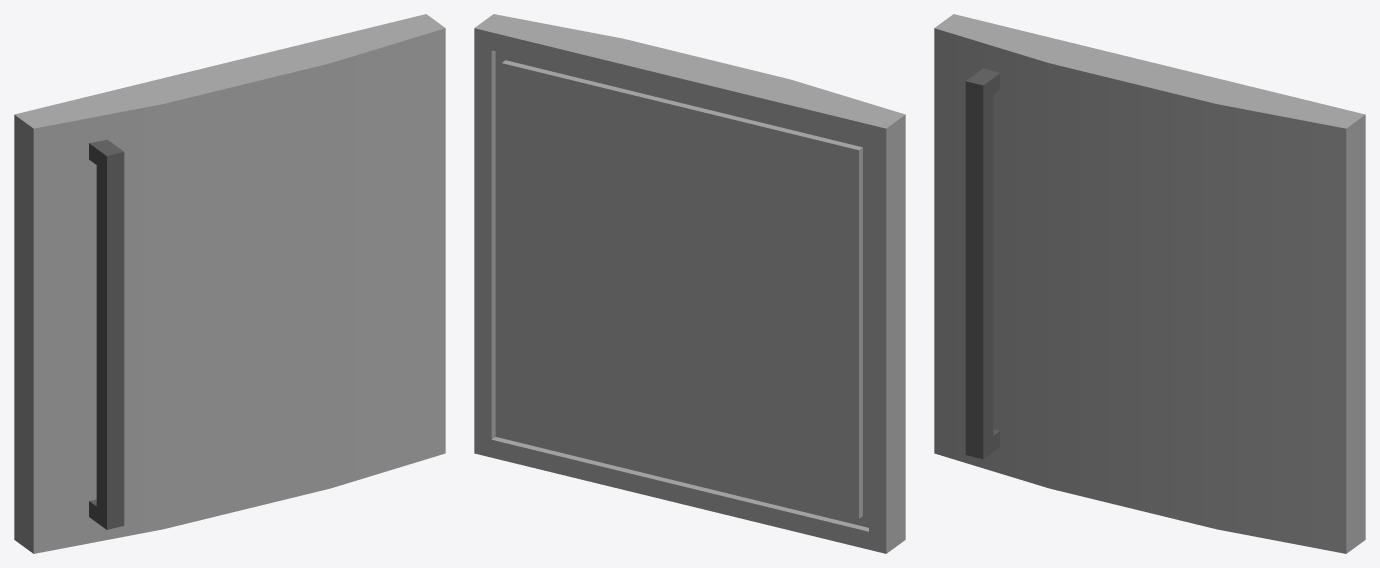
Rendered from Refrigerador_Puerta02.fbx.
The picture shows the model from 3 angles, left to right: view 1: azimuth 30°, elevation 25°; view 2: azimuth 150°, elevation 25°; view 3: azimuth 330°, elevation 25°; orthographic projection.
Parts seen in each view (by area): view 1: Refrigerador_Puerta02; view 2: Refrigerador_Puerta02; view 3: Refrigerador_Puerta02.
Boxes of the visible parts, x1,y1,x2,y2 form: Refrigerador_Puerta02: (14, 14, 445, 553); Refrigerador_Puerta02: (474, 14, 905, 553); Refrigerador_Puerta02: (934, 14, 1365, 553).
Bounding box in the file's own units: 48.44 × 47.78 × 8.19.
